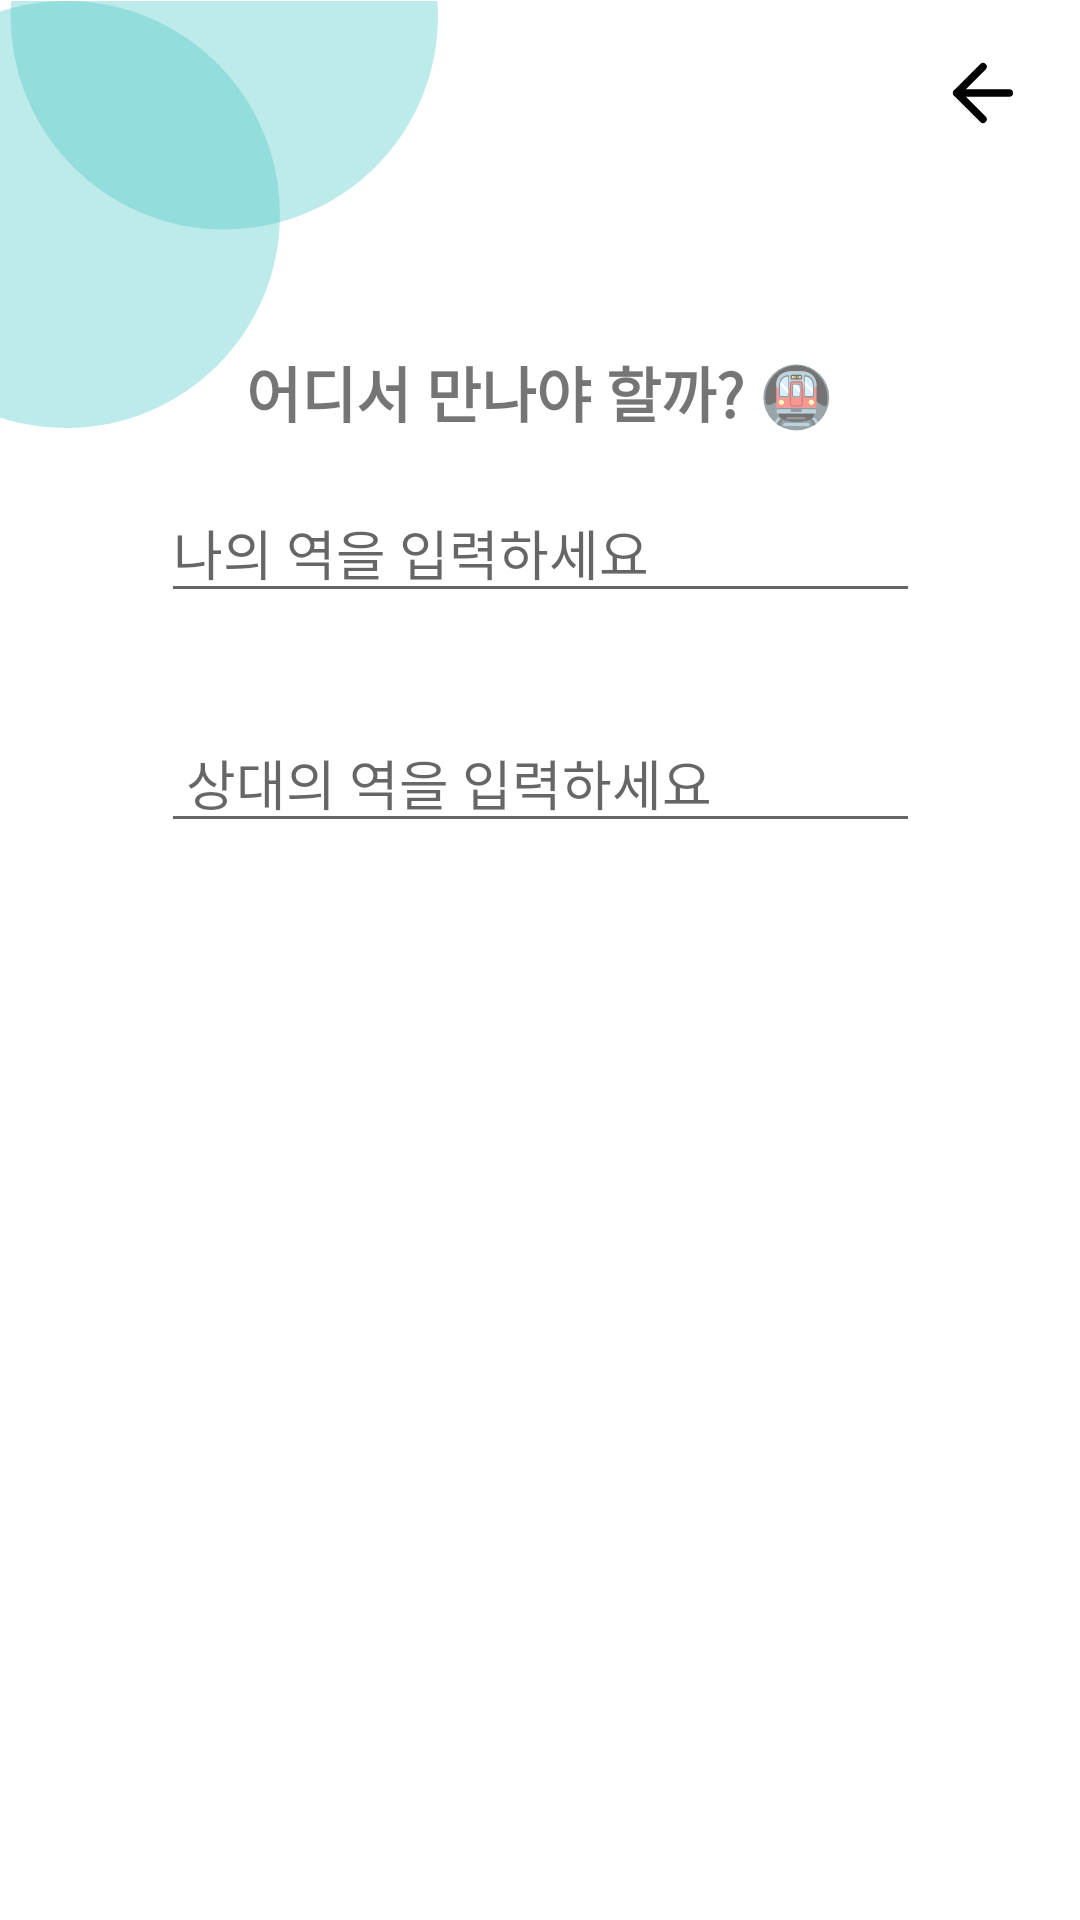

Locate icon controls on the screen. Image size 1080*1920, boxes as (x1, y1, x2, y2).
goback: (952, 62, 1013, 124)
